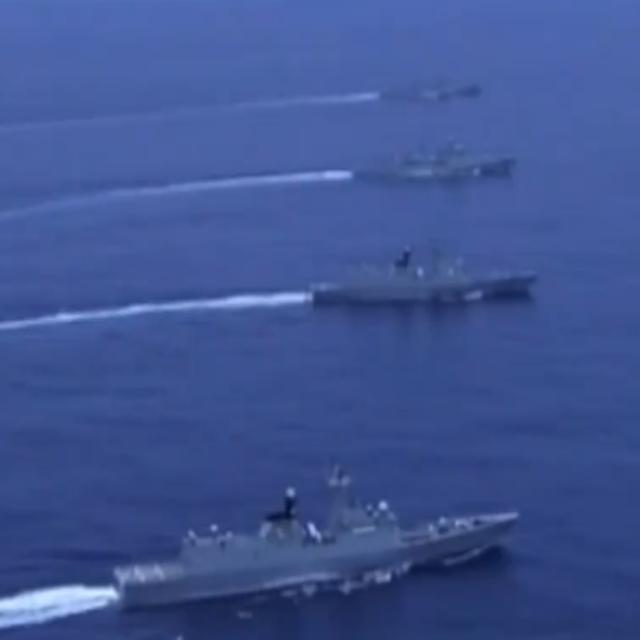navalvessels: (107, 457, 523, 598), (310, 240, 541, 310), (348, 134, 516, 186), (378, 68, 483, 108)
